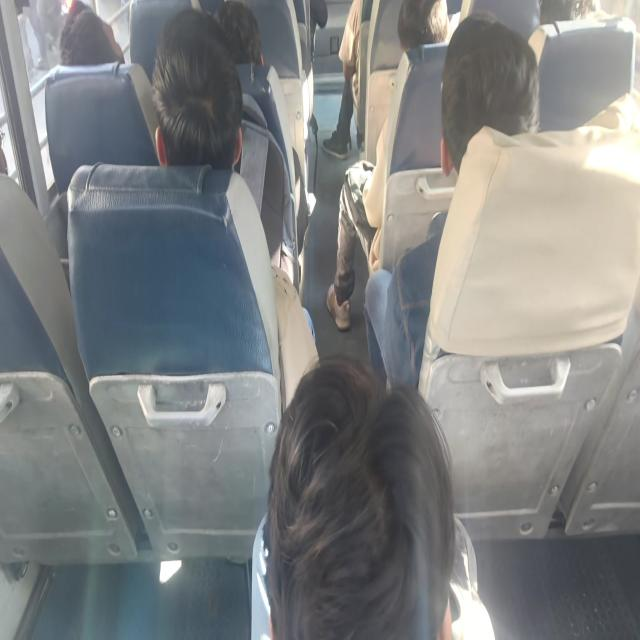person: (272, 360, 437, 640), (432, 34, 532, 177), (149, 22, 238, 168), (52, 0, 125, 72), (196, 0, 270, 69), (401, 0, 457, 58), (531, 0, 599, 41)
